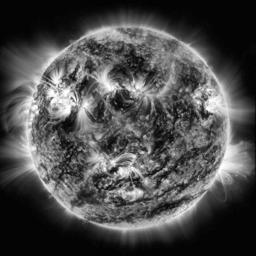solar flares: (50, 85, 72, 116), (93, 74, 118, 95), (78, 99, 91, 129), (88, 152, 109, 170), (204, 98, 221, 115), (119, 163, 137, 179)
sunspots: (112, 51, 147, 82), (54, 118, 78, 138), (174, 100, 192, 122), (153, 124, 167, 147), (102, 133, 120, 150), (113, 96, 130, 111), (153, 202, 185, 209), (183, 73, 196, 89), (81, 192, 97, 204), (82, 77, 90, 89), (71, 71, 78, 82), (87, 63, 94, 68)
